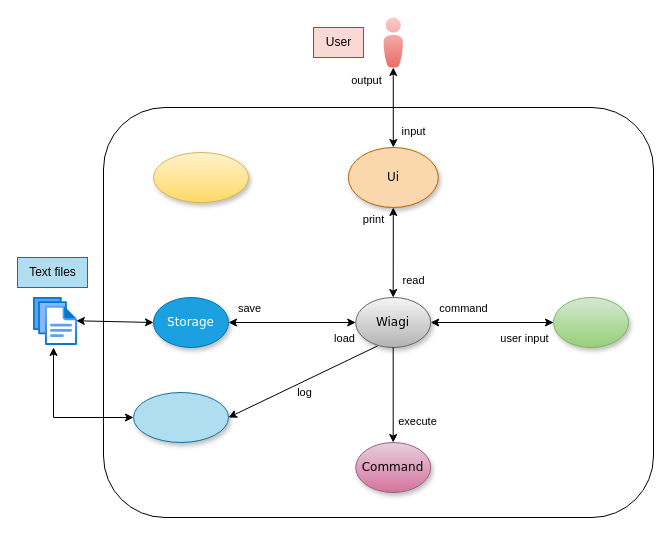
Image size: 671x535. Some labels were removed from this diagram. The centre of each missing label's shape, as x and y in pixels:
"Commons" goes at (x=201, y=179).
"Parser" goes at (x=591, y=323).
"WiagiLogger" goes at (x=181, y=419).
